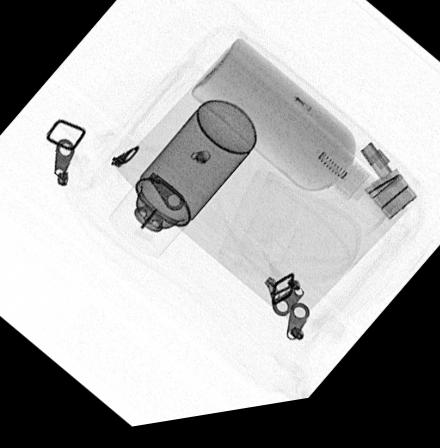Sprayer: (105, 104, 258, 263)
